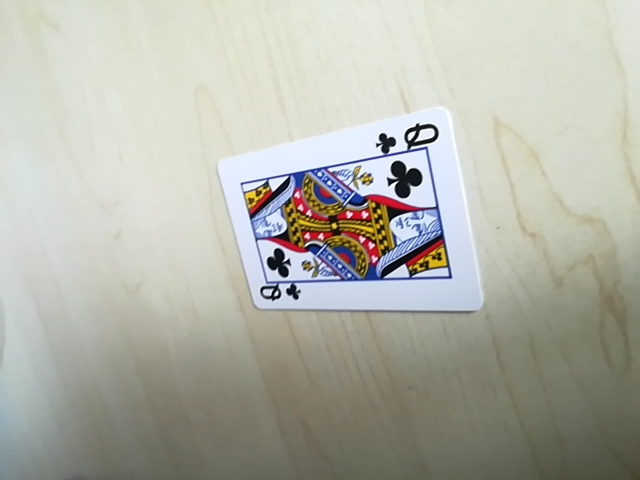mh q: (375, 119, 444, 156), (249, 276, 304, 308)
